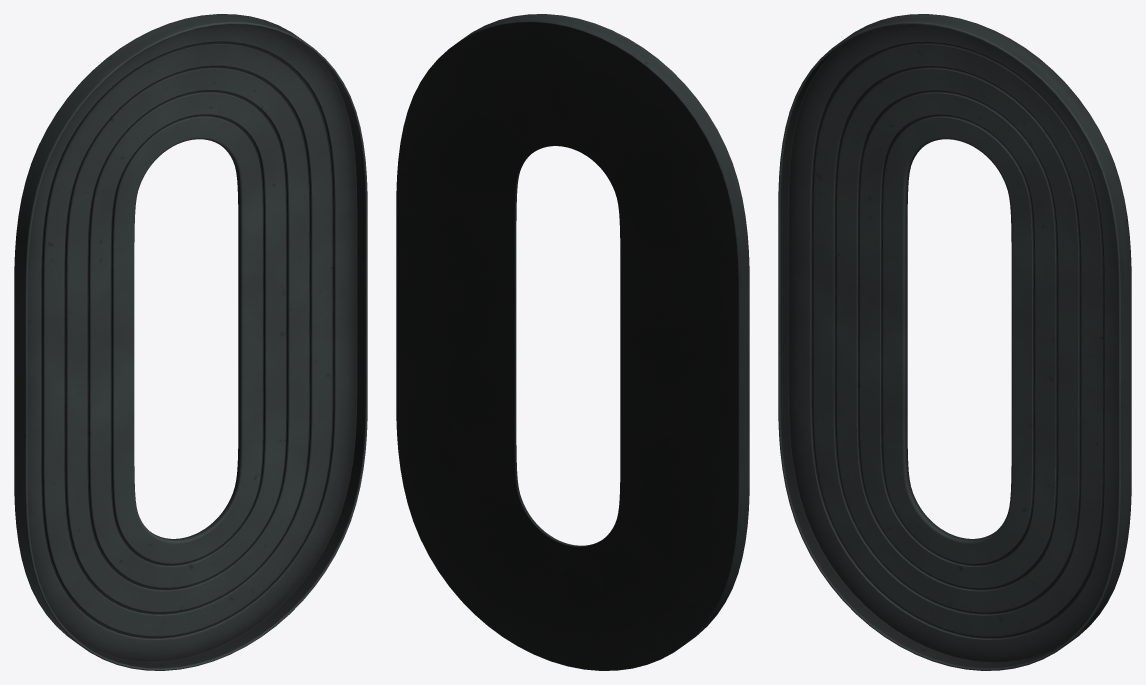
The model's file is road.obj.
3 views of the same model, side by side, from view 1: azimuth 30°, elevation 25°; view 2: azimuth 150°, elevation 25°; view 3: azimuth 330°, elevation 25° (orthographic).
Visible parts, largest first — view 1: 10605_Slot_Car_Race_Track_v1; view 2: 10605_Slot_Car_Race_Track_v1; view 3: 10605_Slot_Car_Race_Track_v1.
Boxes of the visible parts, x1,y1,x2,y2 form: 10605_Slot_Car_Race_Track_v1: (14, 14, 367, 670); 10605_Slot_Car_Race_Track_v1: (396, 14, 749, 670); 10605_Slot_Car_Race_Track_v1: (778, 14, 1131, 670).
Bounding box in the file's own units: 68 × 121 × 3.98.
